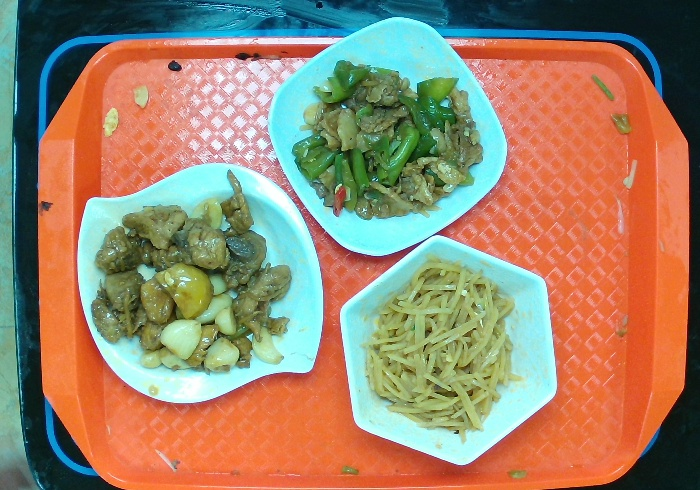RJxy-Liu_Jiao_Wan: (338, 235, 566, 467)
RJxy-Shuang_Jiao_Pan: (72, 163, 324, 406)
RJxy-Si_Fang_Wan: (266, 16, 509, 261)
